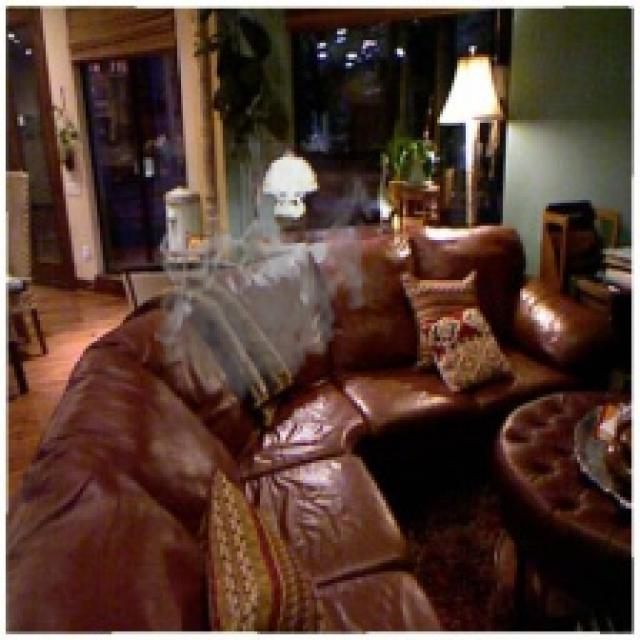smoke: (151, 143, 380, 417)
